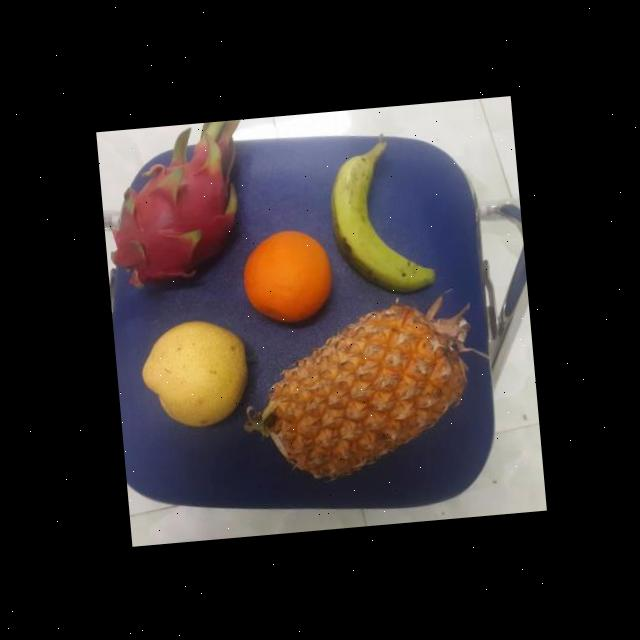banana: (327, 142, 432, 296)
orange: (237, 225, 338, 324)
pear: (134, 316, 260, 430)
pineapple: (250, 299, 482, 491)
pitaya: (110, 136, 252, 292)
